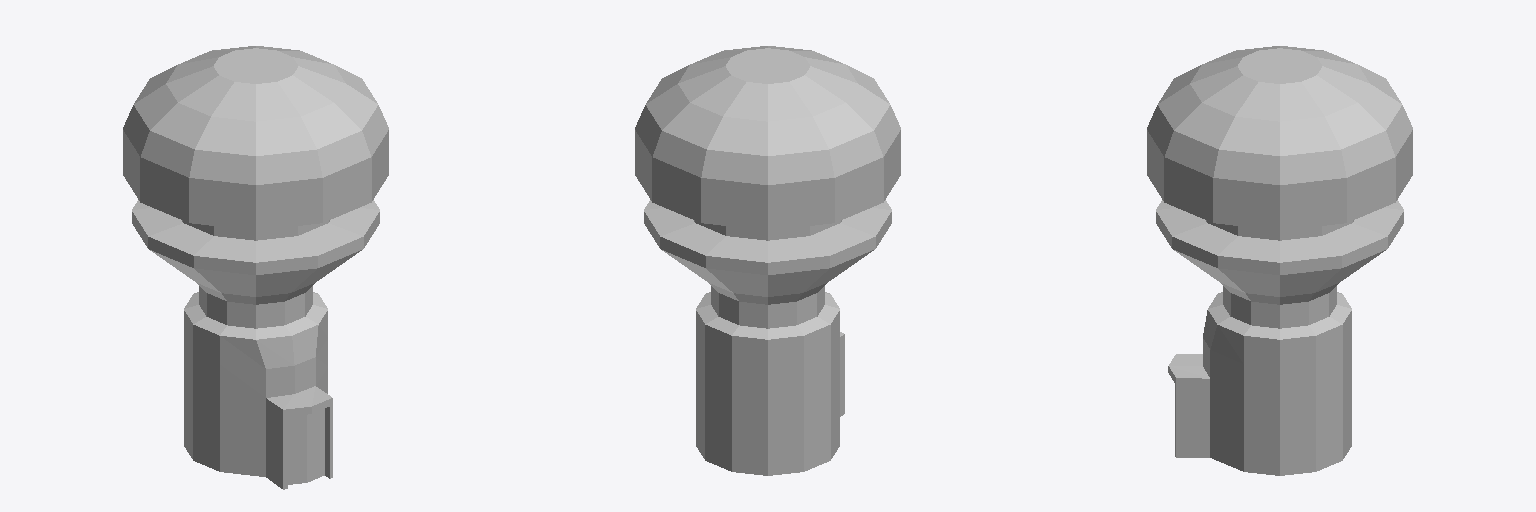
Rendered from Building4.obj.
The picture shows the model from 3 angles: view 1: azimuth 30°, elevation 25°; view 2: azimuth 150°, elevation 25°; view 3: azimuth 270°, elevation 25°; orthographic projection.
Parts seen in each view (by area): view 1: Building4_Cylinder; view 2: Building4_Cylinder; view 3: Building4_Cylinder.
Boxes of the visible parts, box(x1,y1,x2,y2) form: Building4_Cylinder: box(123, 46, 388, 489); Building4_Cylinder: box(635, 46, 900, 475); Building4_Cylinder: box(1147, 46, 1412, 475).
Size of the model in its own units: 9.8 by 15.38 by 9.8.